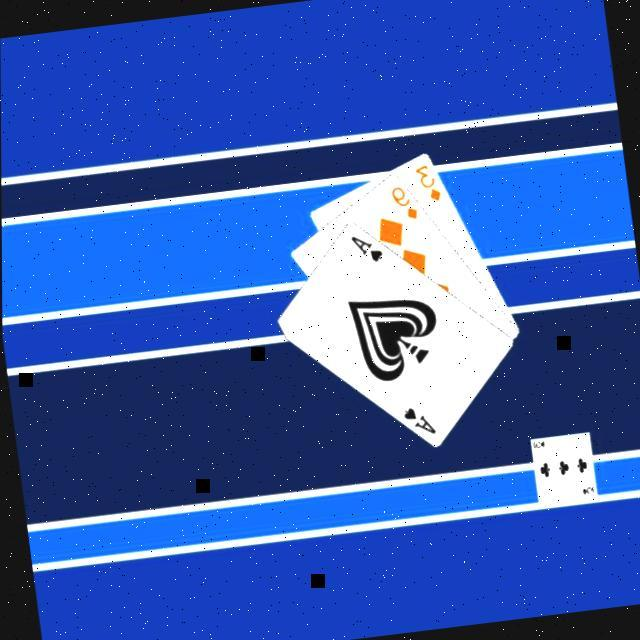3D: (412, 160, 446, 207)
9D: (388, 182, 423, 224)
AS: (400, 400, 440, 440), (348, 229, 388, 267)
